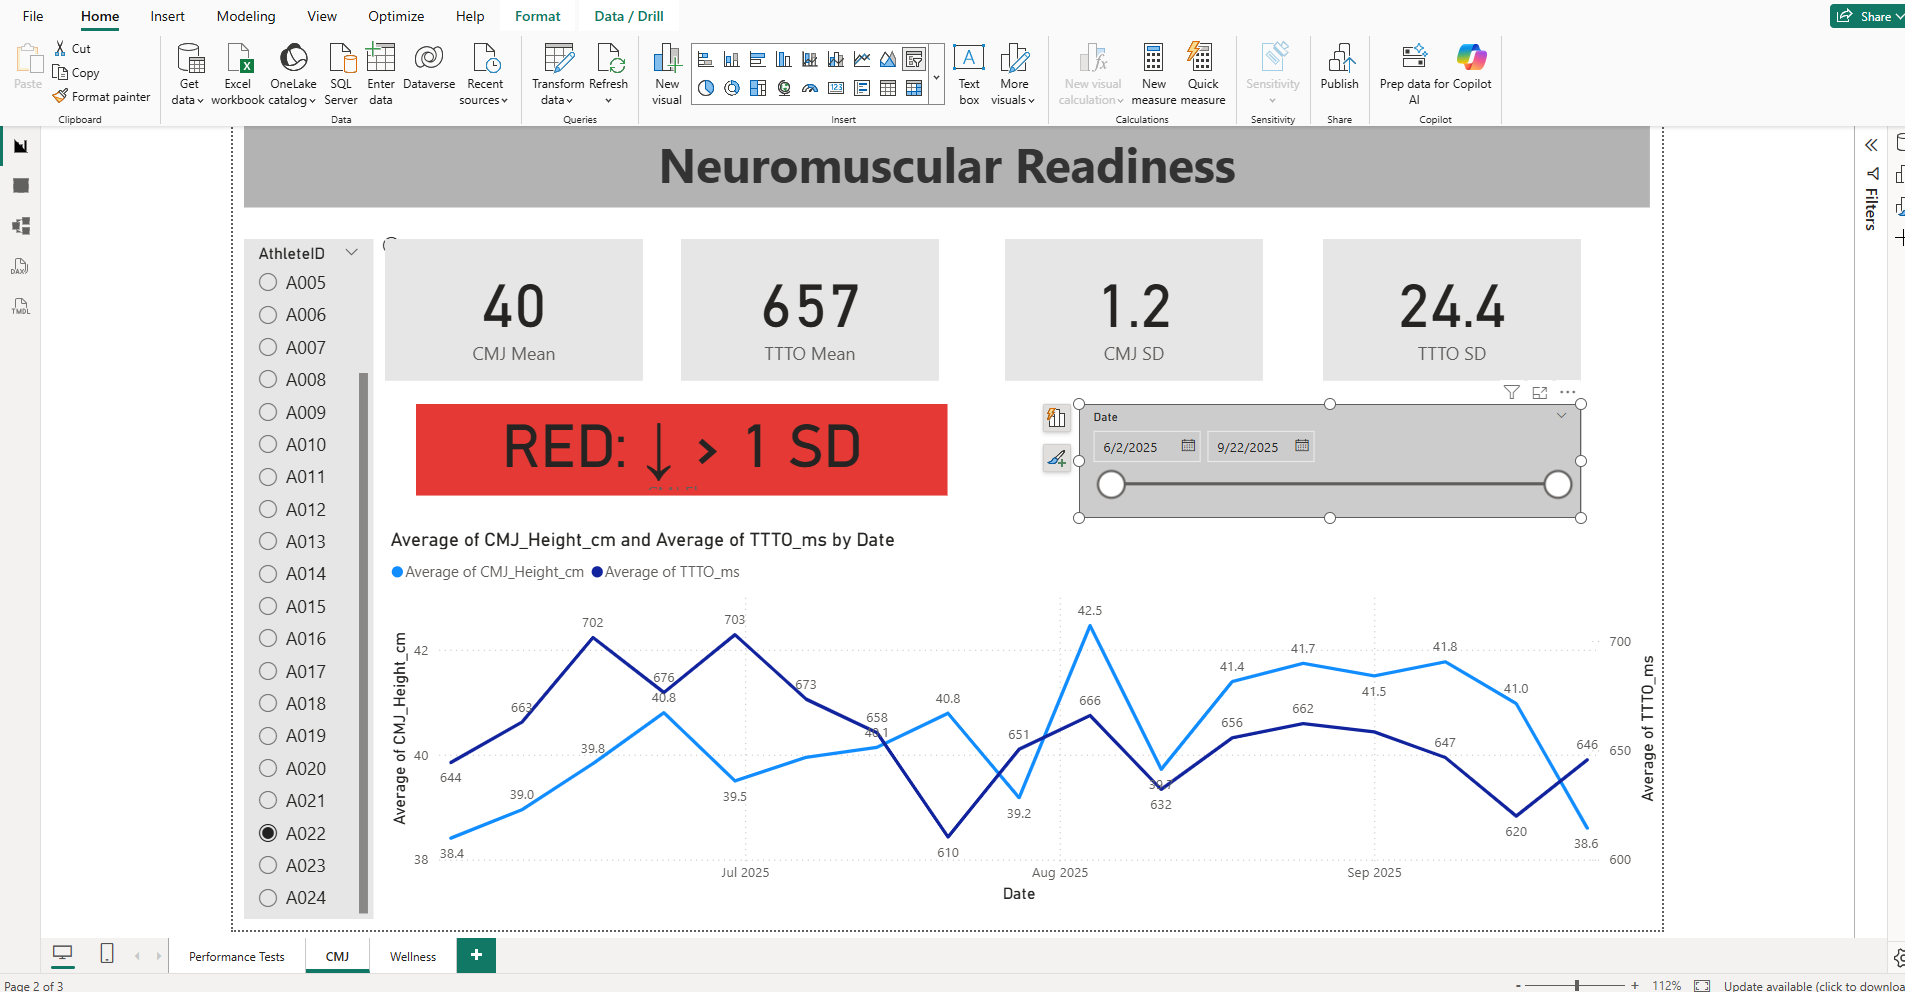

Layout of this report page (visuals, bound fields, positions):
{"tool":"powerbi","page":{"name":"CMJ","canvas":[1280,720],"ordinal":1},"visuals":[{"type":"textbox","box":[9.9,0,1259.1,73.4],"z":0},{"type":"slicer","fields":{"Values":["tCMJ_Weekly.AthleteID"]},"box":[9.9,101.2,115.5,609],"z":1000},{"type":"lineChart","fields":{"Category":["tCMJ_Weekly.Date"],"Y":["Avg(tCMJ_Weekly.CMJ_Height_cm)"],"Y2":["Avg(tCMJ_Weekly.TTTO_ms)"]},"box":[136.1,360,1142.7,340.3],"z":2000},{"type":"card","box":[126.3,91.3,231,127.2],"z":3000},{"type":"card","fields":{"Values":["Athlete.CMJ Mean"]},"box":[136.3,101.3,231,127.2],"z":4000},{"type":"card","fields":{"Values":["Athlete.CMJ SD"]},"box":[691.3,101.2,231,127.2],"z":5000},{"type":"card","fields":{"Values":["Athlete.TTTO SD"]},"box":[976.1,101.2,231,127.2],"z":6000},{"type":"card","fields":{"Values":["Athlete.TTTO Mean"]},"box":[401.2,101.2,231,127.2],"z":7000},{"type":"card","fields":{"Values":["Athlete.CMJ Flag"]},"box":[163.9,249,476.4,82.4],"z":8000},{"type":"slicer","fields":{"Values":["tCMJ_Weekly.Date"]},"box":[858.8,257.9,283,102.1],"z":9000}]}

Visuals, with their boxes on the page's 1280x720 design canvas (x1, y1, x2, y2). These are canvas units, not pixel positions in the 1905x992 screenshot, which may show the page scaled, cropped or inside an application window:
textbox: [10, 0, 1269, 73]
slicer - tCMJ_Weekly.AthleteID: [10, 101, 125, 710]
lineChart - tCMJ_Weekly.Date x Avg(tCMJ_Weekly.CMJ_Height_cm): [136, 360, 1279, 700]
card: [126, 91, 357, 218]
card - Athlete.CMJ Mean: [136, 101, 367, 228]
card - Athlete.CMJ SD: [691, 101, 922, 228]
card - Athlete.TTTO SD: [976, 101, 1207, 228]
card - Athlete.TTTO Mean: [401, 101, 632, 228]
card - Athlete.CMJ Flag: [164, 249, 640, 331]
slicer - tCMJ_Weekly.Date: [859, 258, 1142, 360]
